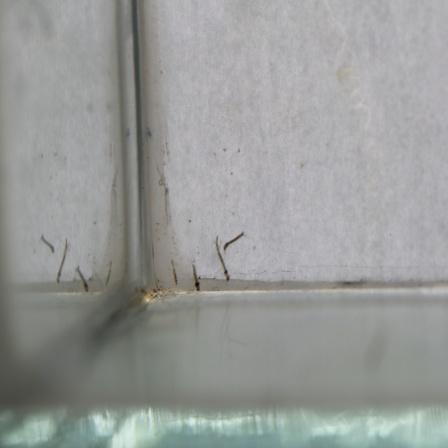Jentik-Nyamuk: (210, 229, 247, 282), (189, 261, 203, 295)
